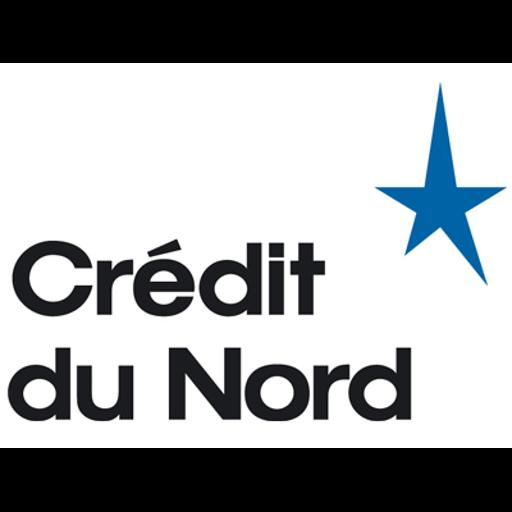Credit du Nord: (0, 63, 512, 448)
